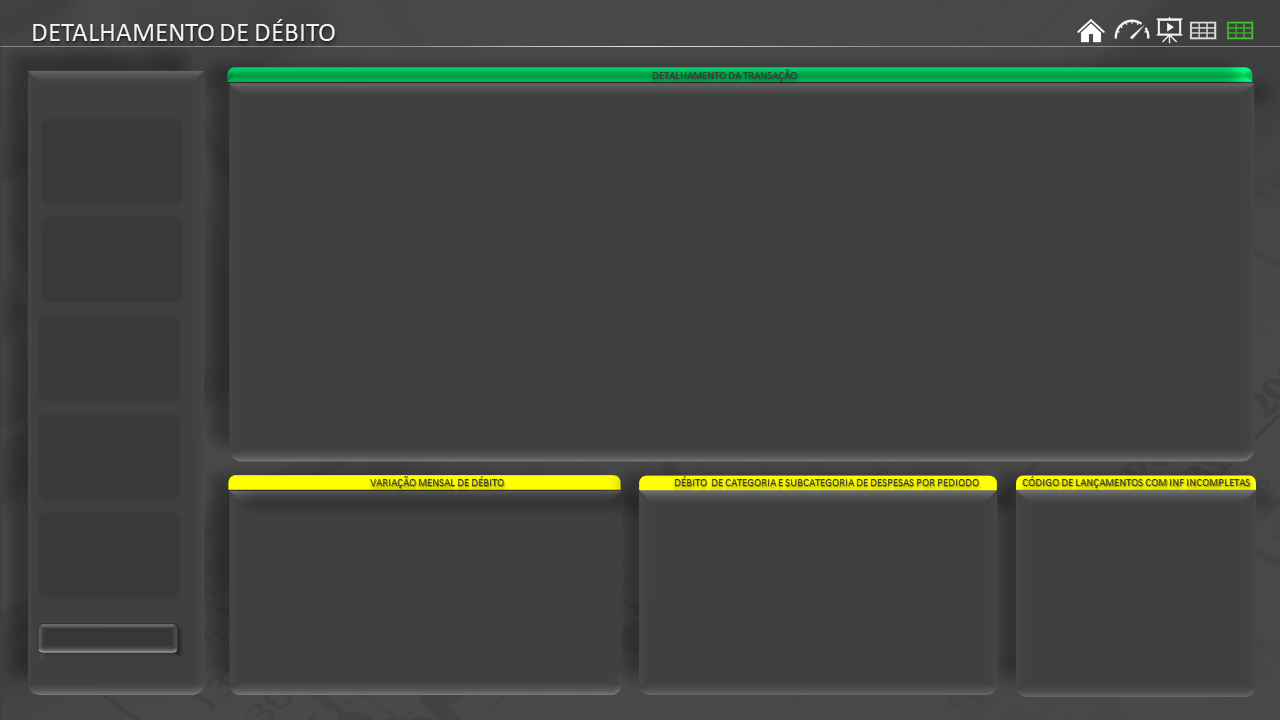

This screenshot's page, from the dashboard's own definition file:
{"tool":"powerbi","page":{"name":"Detalhamento de Debito","canvas":[1280,720],"ordinal":4},"visuals":[{"type":"slicer","fields":{"Values":["dimCalendario.Ano"]},"box":[36,119,144,80],"z":0},{"type":"slicer","fields":{"Values":["dimCalendario.Nome do Mes"]},"box":[36,220,144,80],"z":1000},{"type":"slicer","fields":{"Values":["dimDespesa.GrupoDespesa"]},"box":[36,416,144,80],"z":2000},{"type":"slicer","fields":{"Values":["dimDespesa.Despesa"]},"box":[36,512,144,80],"z":3000},{"type":"slicer","fields":{"Values":["dimContas.Empresa"]},"box":[36,318,144,80],"z":4000},{"type":"tableEx","fields":{"Values":["fDebito.Cod. de Lançamento","fDebito.Data","fDebito.NF","fDebito.Lançamento","dimDespesa.GrupoDespesa","dimDespesa.Despesa","dimContas.Instituição","dimContas.Empresa","dimContas.Conta","fDebito.Destino","Sum(fDebito.Valor)","fDebito.Observação"]},"box":[228,80,1024,368],"z":5000},{"type":"tableEx","title":"VARIAÇÃO MENSAL CRÉDITO","fields":{"Values":["Calendario.Nome do Mes","_Medidas.Total Debito","_Medidas.Total Débito (Mês Anterior)","_Medidas.Total Débito (% MoM)"]},"box":[229,490,389,200],"z":6000},{"type":"pivotTable","fields":{"Values":["_Medidas.Total Debito"],"Columns":["dimCalendario.Nome do Mes"],"Rows":["dimDespesa.GrupoDespesa","dimDespesa.Despesa"]},"box":[640,490,352,200],"z":7000},{"type":"tableEx","fields":{"Values":["fDebito.Status de Lançamento"]},"box":[1080,490,112,200],"z":8000},{"type":"actionButton","title":"Botão Home","box":[1072,16,32,32],"z":9000},{"type":"actionButton","title":"Botão Detalh Credito","box":[1185,16,32,32],"z":10000},{"type":"actionButton","box":[43,625,130,28],"z":11000},{"type":"actionButton","title":"Botão Painel CentroCusto","box":[1152,16,32,32],"z":12000},{"type":"actionButton","title":"Botão Detalh Credito","box":[1120,16,32,32],"z":13000}]}

Visuals, with their boxes in screenshot pixels (x1, y1, x2, y2), scaled from the page's 1280x720 canvas onto the 1280x720 screenshot:
slicer - dimCalendario.Ano: x1=36 y1=119 x2=180 y2=199
slicer - dimCalendario.Nome do Mes: x1=36 y1=220 x2=180 y2=300
slicer - dimDespesa.GrupoDespesa: x1=36 y1=416 x2=180 y2=496
slicer - dimDespesa.Despesa: x1=36 y1=512 x2=180 y2=592
slicer - dimContas.Empresa: x1=36 y1=318 x2=180 y2=398
tableEx - fDebito.Cod. de Lançamento x fDebito.Data: x1=228 y1=80 x2=1252 y2=448
"VARIAÇÃO MENSAL CRÉDITO" tableEx: x1=229 y1=490 x2=618 y2=690
pivotTable - _Medidas.Total Debito x dimCalendario.Nome do Mes: x1=640 y1=490 x2=992 y2=690
tableEx - fDebito.Status de Lançamento: x1=1080 y1=490 x2=1192 y2=690
"Botão Home" actionButton: x1=1072 y1=16 x2=1104 y2=48
"Botão Detalh Credito" actionButton: x1=1185 y1=16 x2=1217 y2=48
actionButton: x1=43 y1=625 x2=173 y2=653
"Botão Painel CentroCusto" actionButton: x1=1152 y1=16 x2=1184 y2=48
"Botão Detalh Credito" actionButton: x1=1120 y1=16 x2=1152 y2=48
